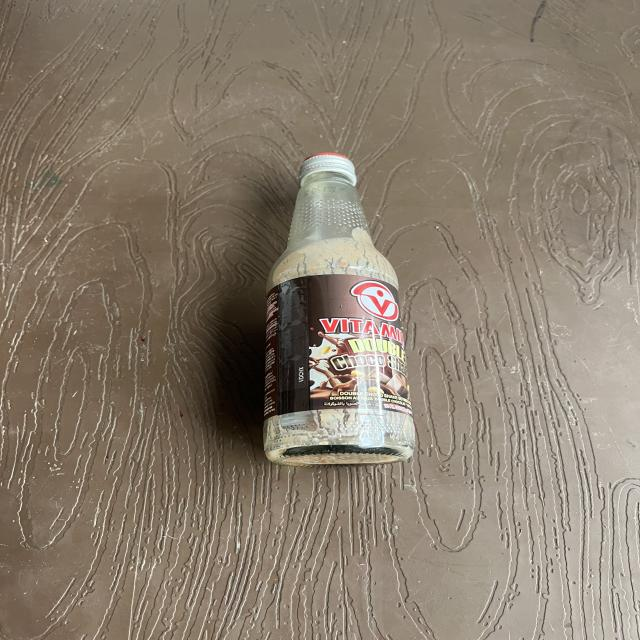REJECT: (250, 122, 437, 460)
